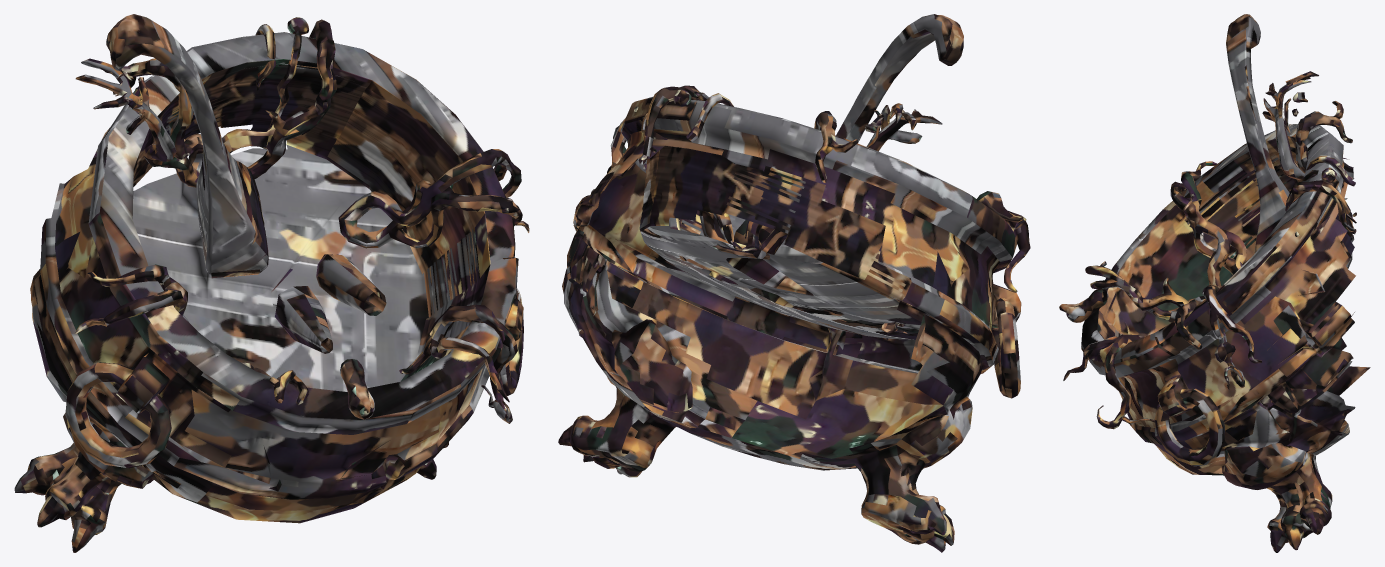
The model's file is H_Pot.fbx.
3 renders of one model, left to right at view 1: azimuth 30°, elevation 25°; view 2: azimuth 150°, elevation 25°; view 3: azimuth 270°, elevation 25°, orthographic. The views are drawn at different scales.
Parts seen in each view (by area): view 1: Pot; view 2: Pot; view 3: Pot.
Boxes of the visible parts, left/top/right/bottom form: Pot: left=14, top=14, right=529, bottom=552; Pot: left=558, top=14, right=1030, bottom=552; Pot: left=1059, top=14, right=1370, bottom=552.
Size of the model in its own units: 41.39 by 47.72 by 32.13.
